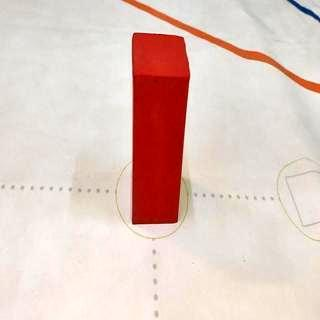redbox: (130, 32, 190, 225)
